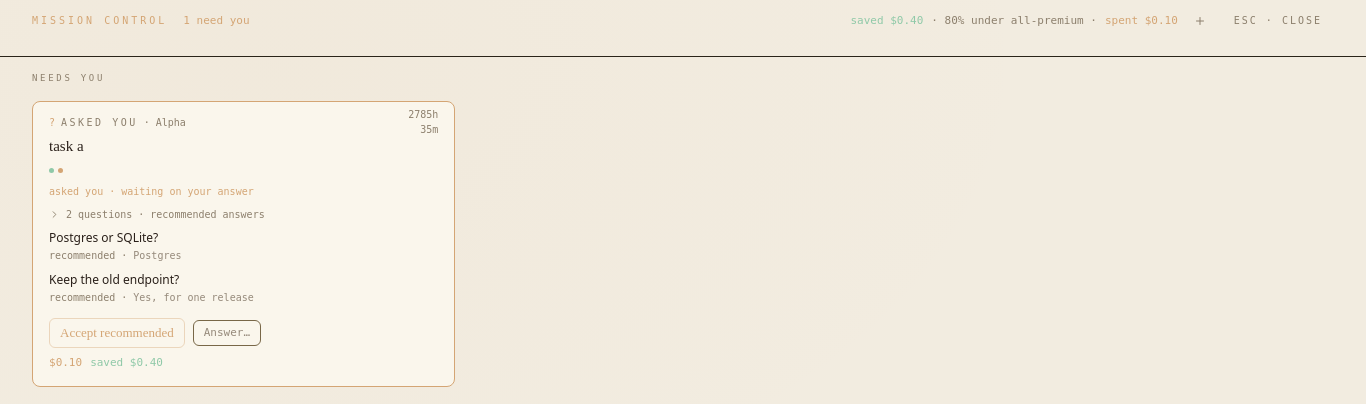
Scenario: MissionControl › an asked-you card expands inline to the questions and their recommended answers
What coordinates should you click on to do the following:
click the button "2 questions · recommended answers"
I would click on:
 (157, 214)
Its box is [49,206,265,222].
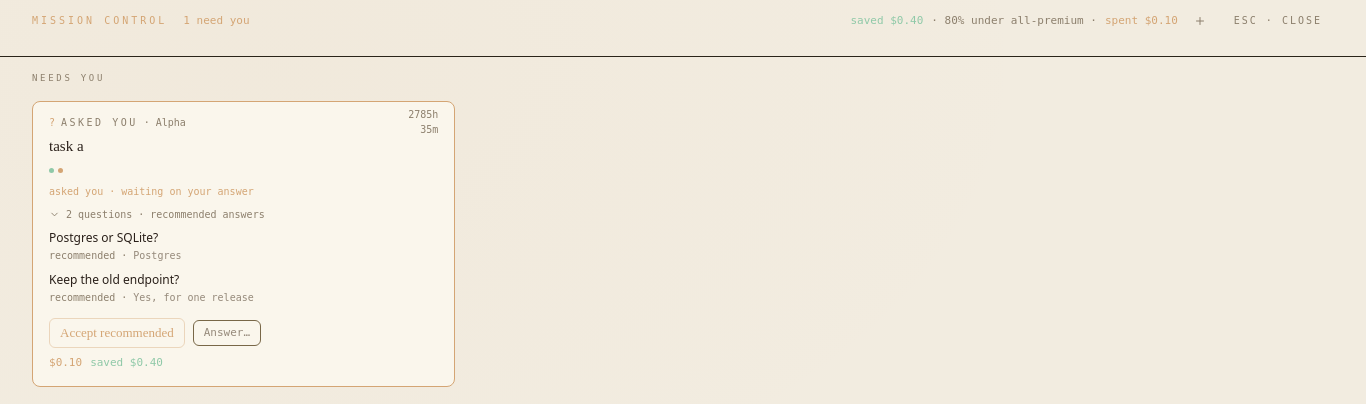
Expected: the text "Postgres or SQLite?" is shown, [49,229,158,246]
Result: the button "2 questions · recommended answers" is expanded at [49,206,265,222]
